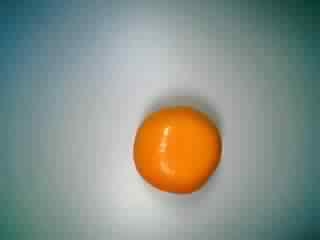orange: (127, 102, 228, 199)
